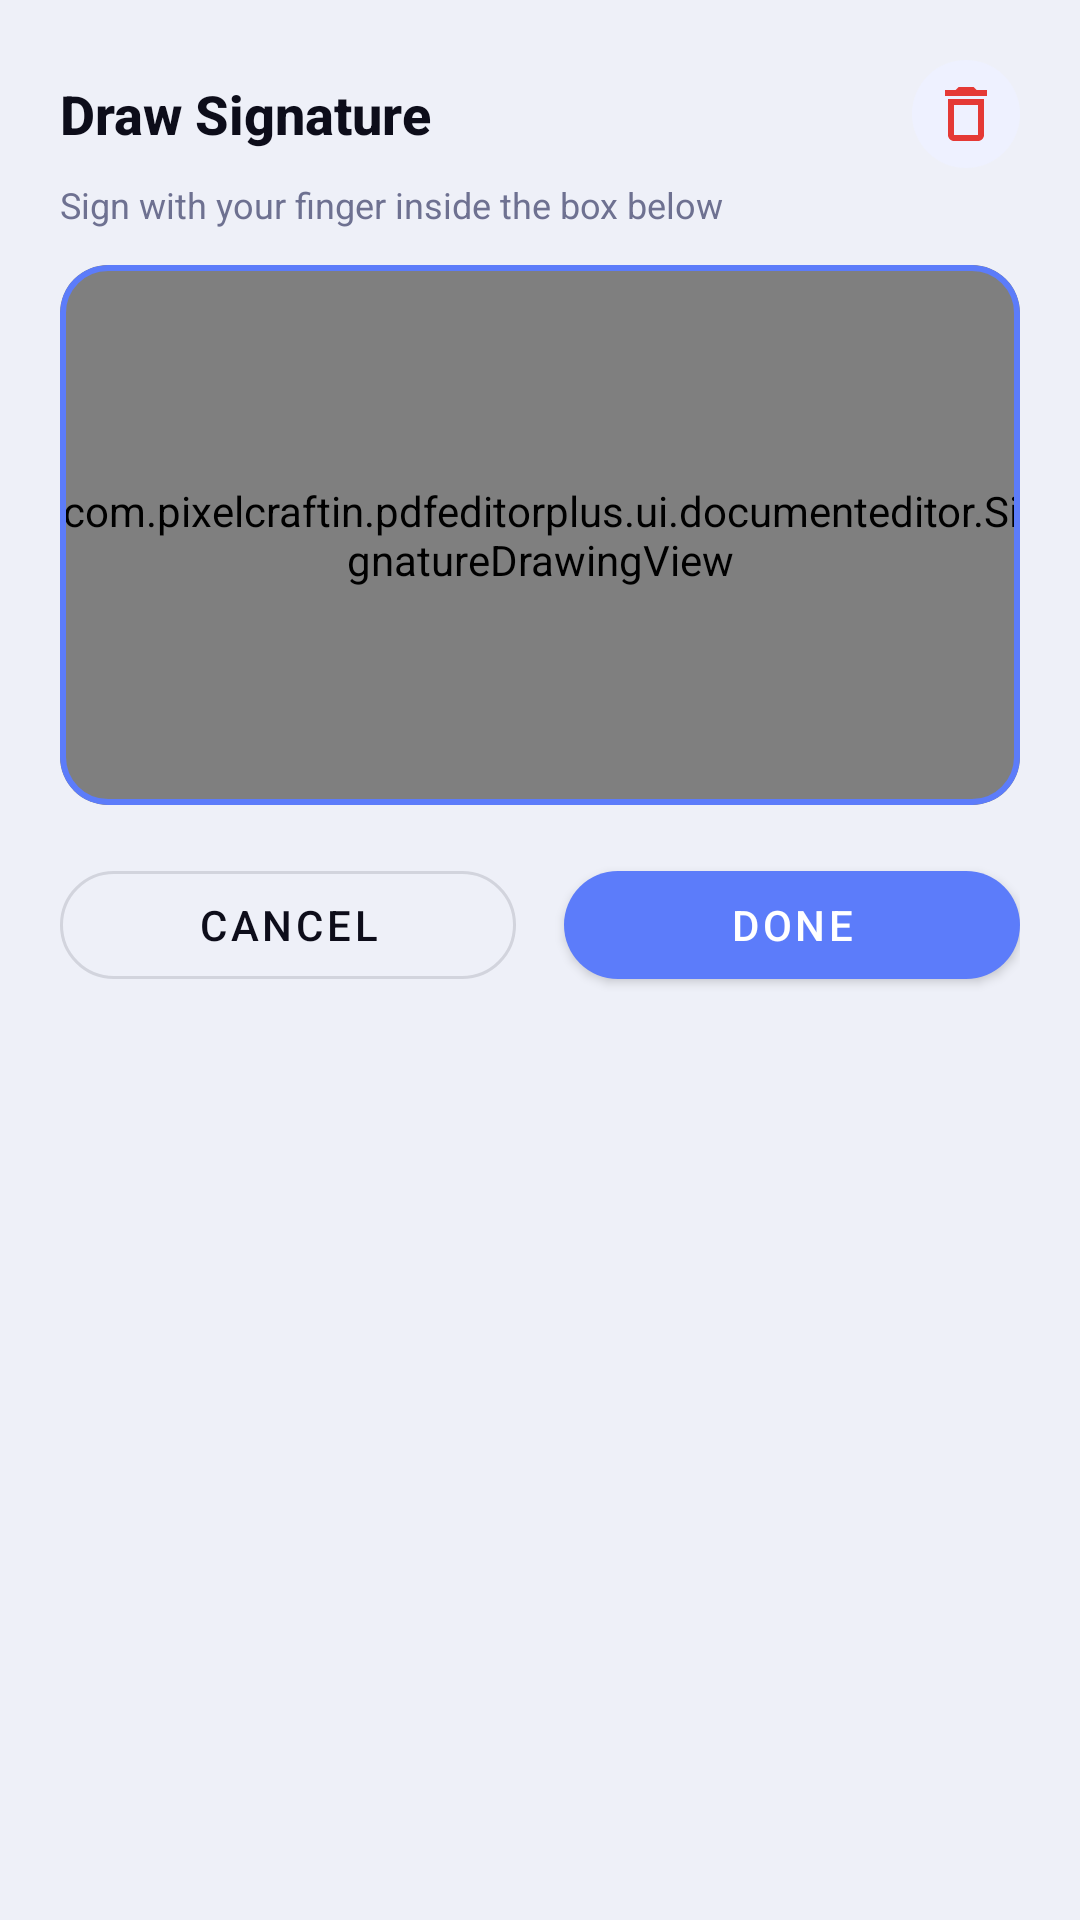

Point at icon controls on the screen. Image size 1080*1920, points as (x=x, y=y).
Clear: (x=966, y=114)
